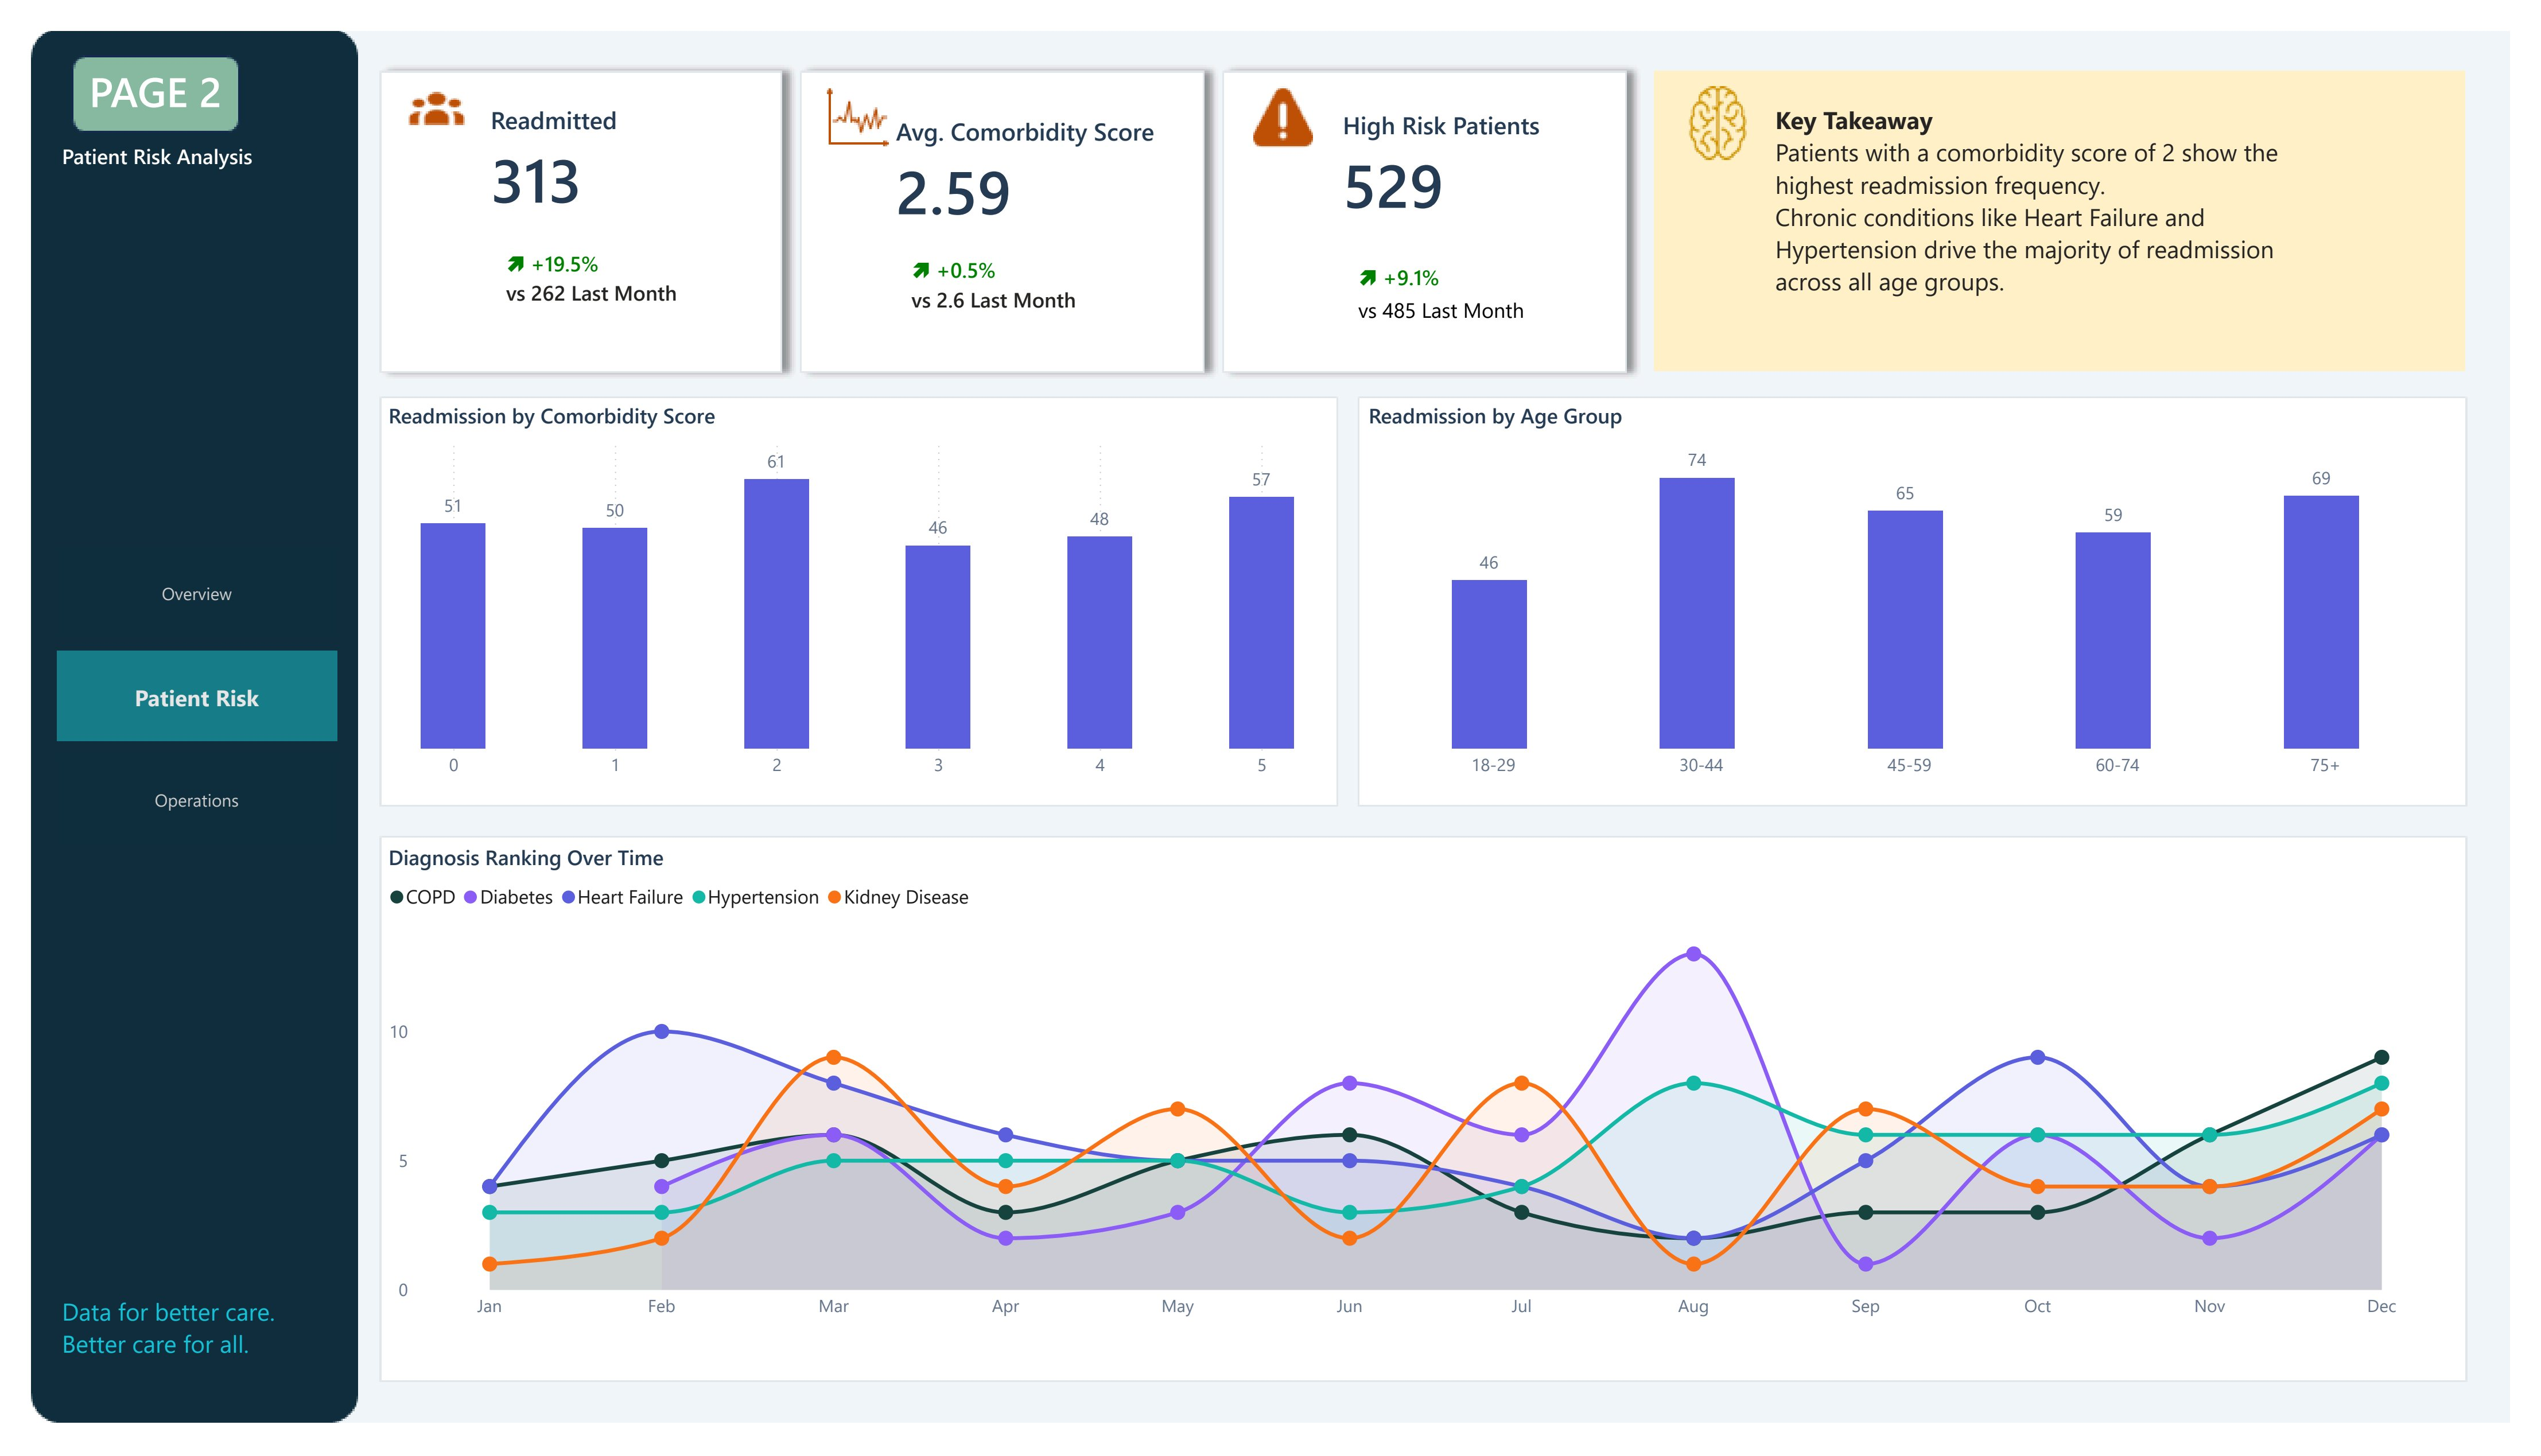

This screenshot's page, from the dashboard's own definition file:
{"tool":"powerbi","page":{"name":"Patient Risk","canvas":[1920,1080],"ordinal":1},"visuals":[{"type":"clusteredColumnChart","title":"Readmission by Age Group","fields":{"Category":["readmissions.Age_group"],"Y":["_measures.readmission"]},"box":[1031.1,287,848.3,299.8],"z":0},{"type":"clusteredColumnChart","title":"Readmission by Comorbidity Score","fields":{"Y":["_measures.readmission"],"Category":["readmissions.comorbidity_score"]},"box":[272.1,287,735.6,299.8],"z":1000},{"type":"cardVisual","fields":{"Data":["_measures.HighRiskPatients"]},"box":[986.8,40.2,238.7,222.6],"z":2000},{"type":"lineChart","title":"Diagnosis Ranking Over Time","fields":{"Category":["Date.Month Name"],"Y":["_measures.readmission"],"Series":["readmissions.diagnosis"]},"box":[272.1,629.3,1607.2,376.3],"z":4000},{"type":"pageNavigator","box":[20.1,400.1,217.4,230.2],"z":5000},{"type":"textbox","box":[40.4,19.1,123.3,61.7],"z":6000},{"type":"textbox","box":[19.1,80.8,199.8,72.3],"z":7000},{"type":"textbox","box":[19.1,973.7,216.9,85],"z":8000},{"type":"textbox","box":[1345.7,51,433.7,197.7],"z":9000},{"type":"cardVisual","fields":{"Data":["_measures.readmitted"]},"box":[327.4,40.4,244.5,208.3],"z":10000},{"type":"cardVisual","fields":{"Data":["_measures.AvgComorbidScore"]},"box":[640.9,50.9,270.8,198.4],"z":11000}]}

Visuals, with their boxes in screenshot pixels (x1, y1, x2, y2), scaled from the page's 1920x1080 canvas onto the 2541x1456 screenshot:
"Readmission by Age Group" clusteredColumnChart: [1365,387,2487,791]
"Readmission by Comorbidity Score" clusteredColumnChart: [360,387,1334,791]
cardVisual - _measures.HighRiskPatients: [1306,54,1622,355]
"Diagnosis Ranking Over Time" lineChart: [360,848,2487,1356]
pageNavigator: [26,539,314,850]
textbox: [53,26,217,109]
textbox: [25,109,290,207]
textbox: [25,1313,312,1427]
textbox: [1781,69,2355,335]
cardVisual - _measures.readmitted: [433,54,757,335]
cardVisual - _measures.AvgComorbidScore: [848,69,1207,336]
